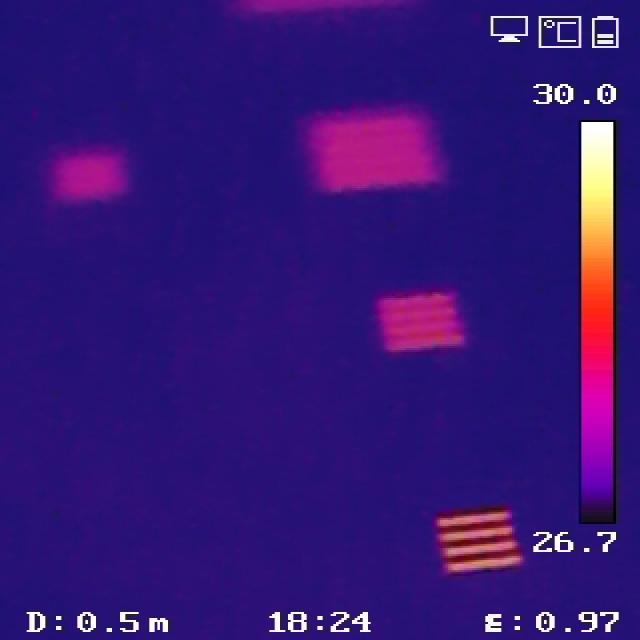Distinguishable 4-bar target: (434, 510, 522, 575)
Indistinguishable 4-bar target: (302, 106, 438, 187), (49, 155, 120, 195)
threshold 4-bar target: (380, 292, 469, 352)
